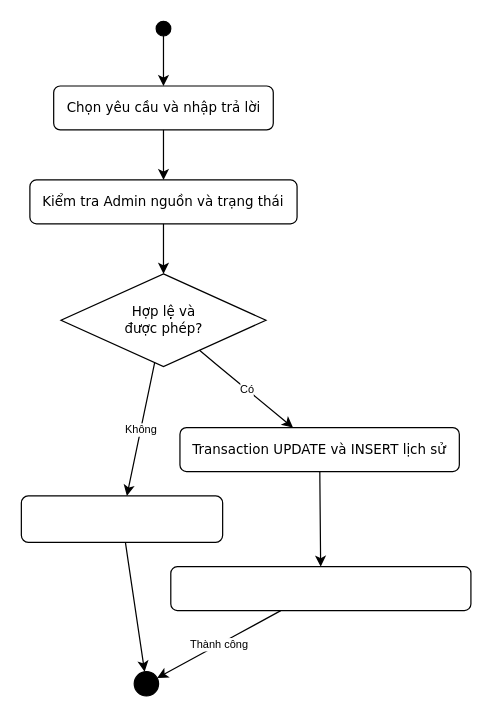
Image size: 493x717. Some labels were removed from this diagram. The centre of each missing label's shape, as x and y in pixels:
Thông báo lỗi Không báo lưu thành công: point 121,518
Tải lại hàng đợi; chủ phản hồi xem trả lời: point 320,588
